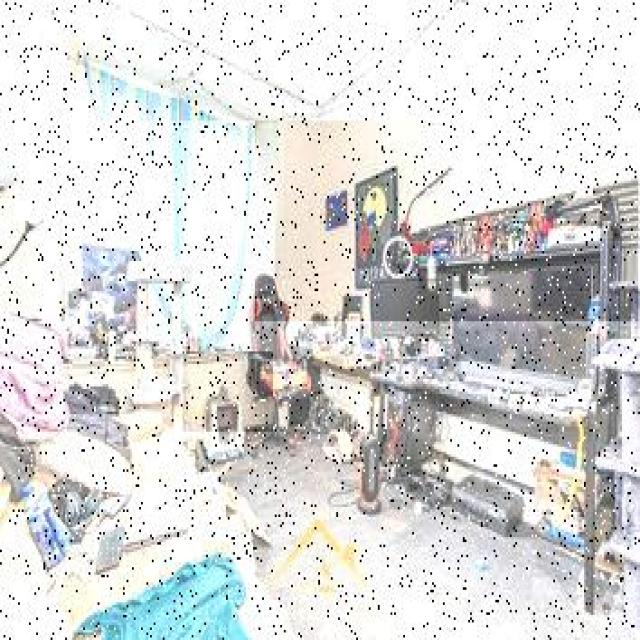Wall: (255, 3, 640, 321), (227, 442, 607, 637), (0, 0, 472, 120), (155, 1, 419, 88), (0, 1, 65, 321), (183, 353, 273, 432), (485, 428, 559, 489), (64, 358, 136, 414), (320, 368, 369, 432), (447, 415, 486, 464), (154, 359, 170, 379)
